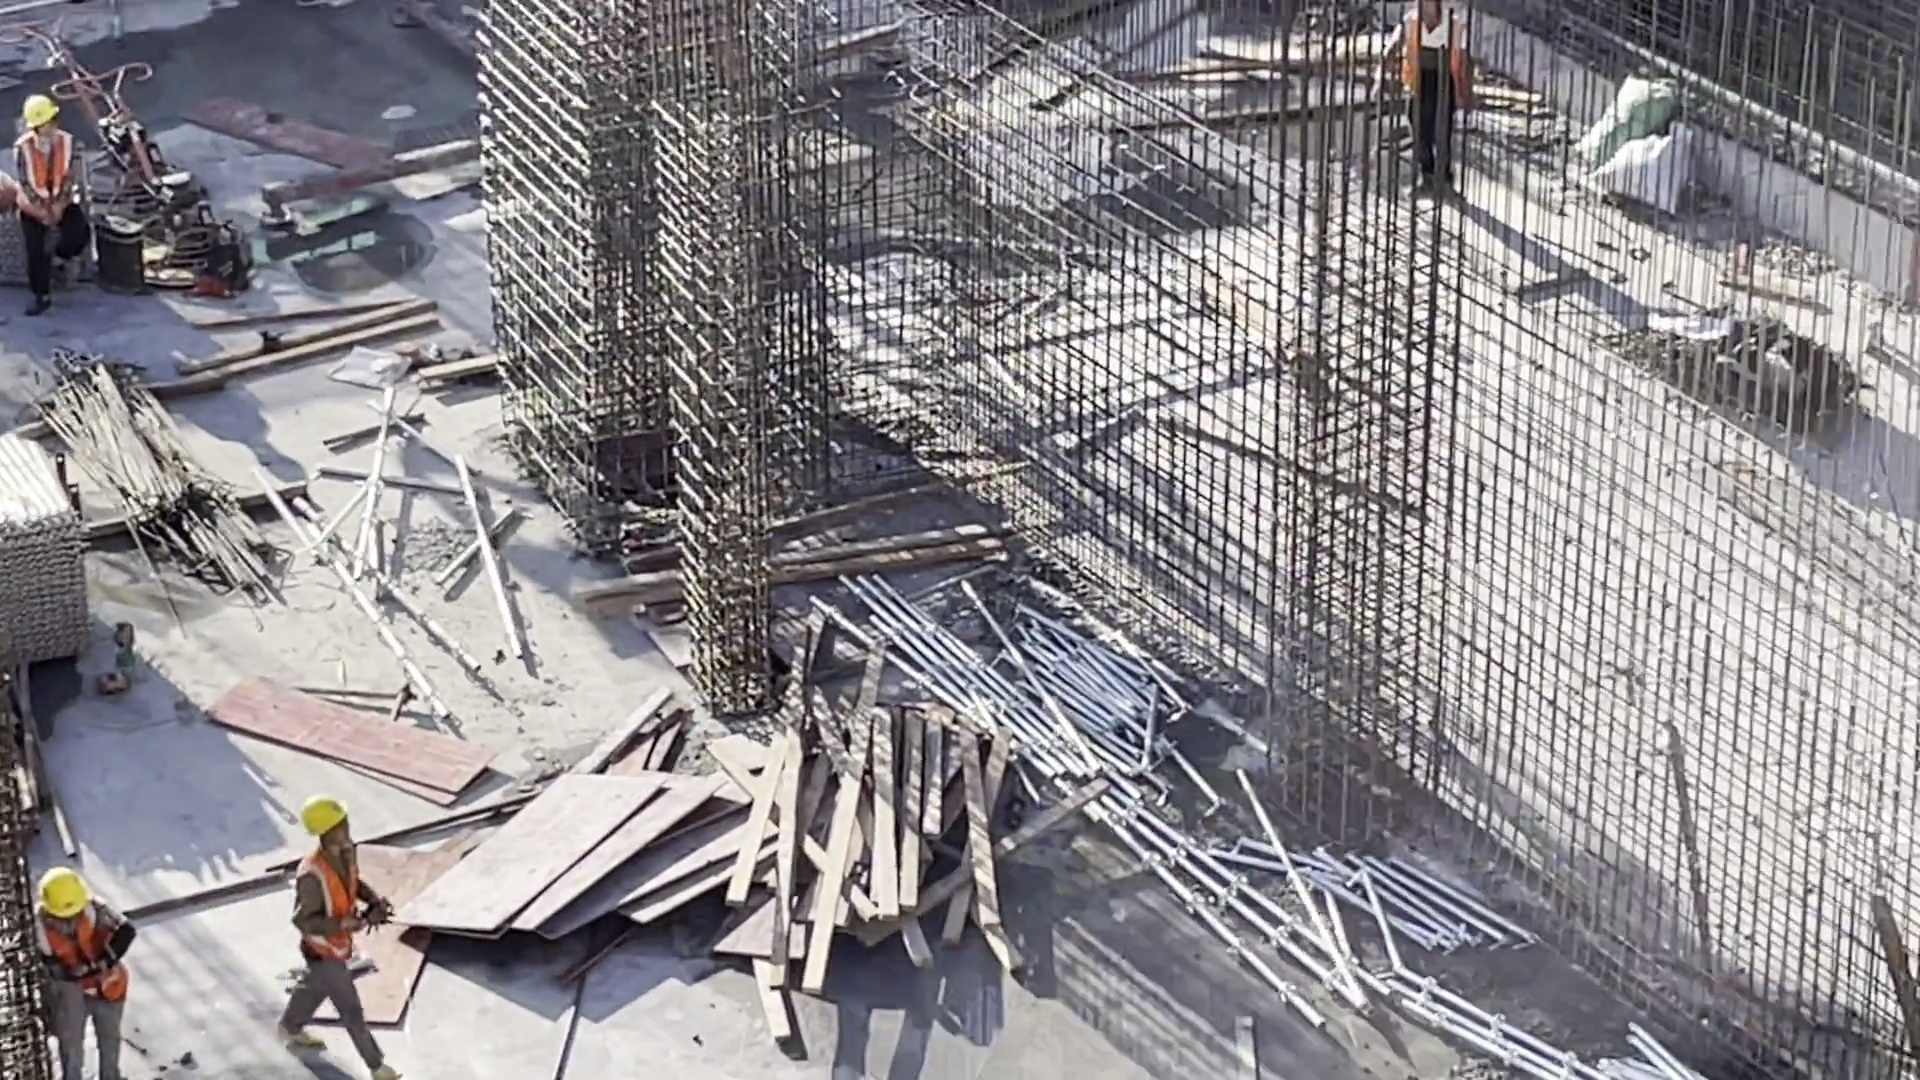board: (420, 776, 733, 941)
helmet: (45, 869, 91, 927), (10, 94, 62, 130), (297, 797, 344, 835)
person: (260, 785, 413, 1080), (12, 849, 134, 1080), (1385, 1, 1481, 213), (4, 94, 82, 322)
scaffold: (900, 579, 1156, 756), (1297, 835, 1515, 962), (1, 412, 105, 664)
vest: (28, 898, 136, 1001), (1389, 10, 1480, 120), (4, 129, 76, 234), (299, 844, 362, 962)
wood: (740, 693, 995, 993)
